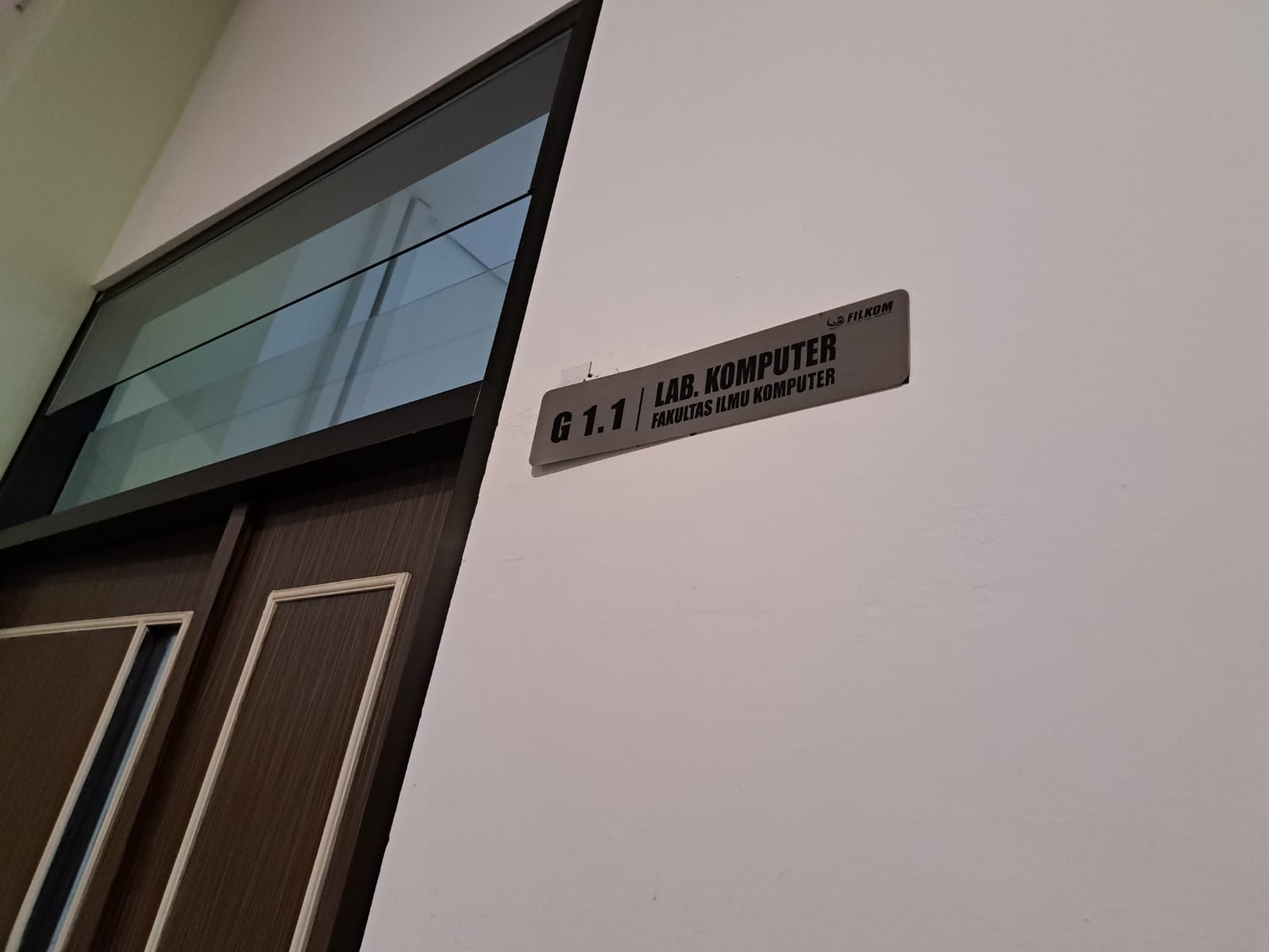ruangan: (520, 281, 916, 483)
